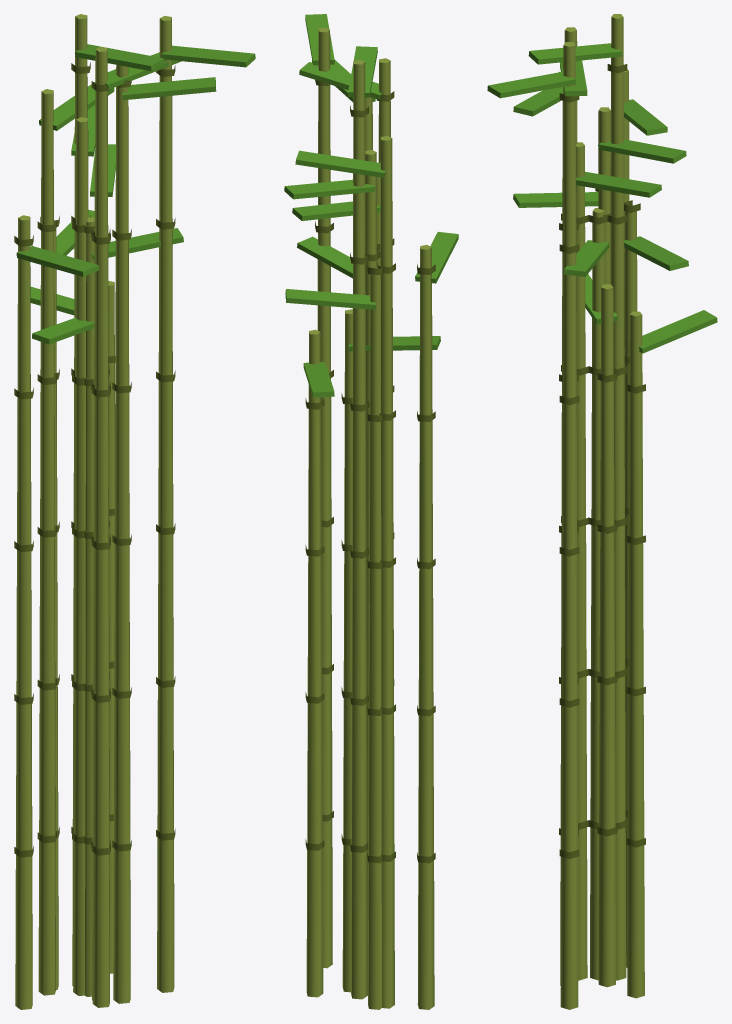
The model's file is jg_bamboo.glb.
3 renders of one model, left to right at view 1: azimuth 30°, elevation 25°; view 2: azimuth 150°, elevation 25°; view 3: azimuth 270°, elevation 25°, orthographic. The views are drawn at different scales.
Parts seen in each view (by area): view 1: jg_bamboo; view 2: jg_bamboo; view 3: jg_bamboo.
Part boxes in pixels (bbox=[...]): jg_bamboo: bbox=[14, 14, 255, 1009]; jg_bamboo: bbox=[284, 14, 458, 1009]; jg_bamboo: bbox=[487, 14, 717, 1009].
Bounding box in the file's own units: 1.16 × 5.72 × 1.24.
